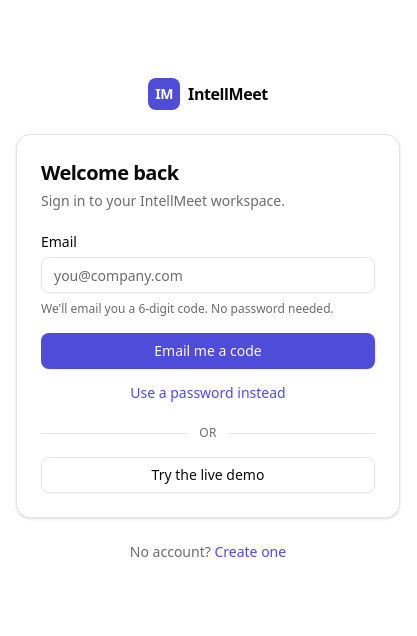
<LoginPage /> › rewords a rate limit so it does not read as a wrong password
This screenshot has width=417, height=636.
Click the button "Use a password instead".
click(208, 393)  # box 41,377 -> 375,409
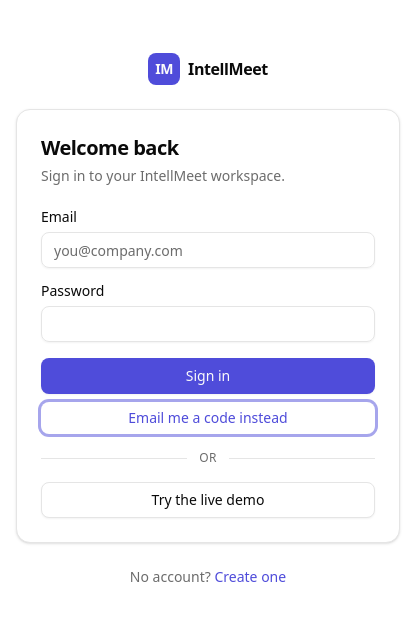
Type "ada@example.com" into the field labelled "Email".
click(208, 250); type("ada@example.com")  # box 41,232 -> 375,268
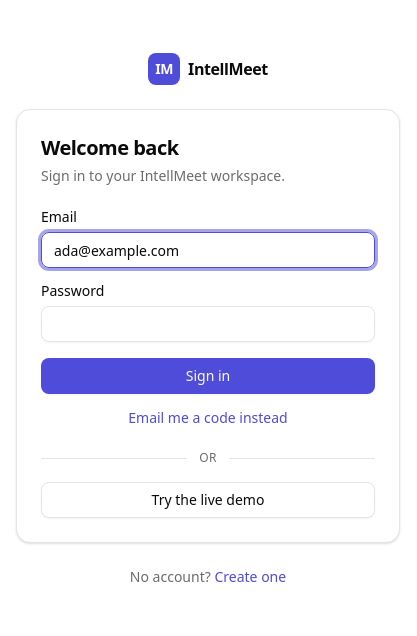
Type "Correct-horse-1" into the password field labelled "Password".
click(208, 324); type("Correct-horse-1")  # box 41,306 -> 375,342
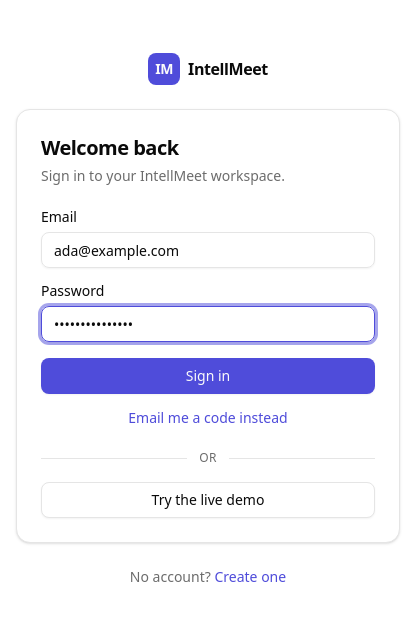
Click the button "Sign in".
click(208, 376)  # box 41,358 -> 375,394
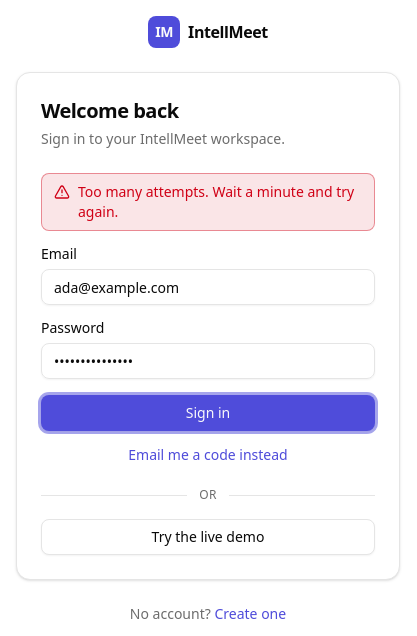
expect the message shows "Too many attempts": met, box 78,182 -> 354,221
